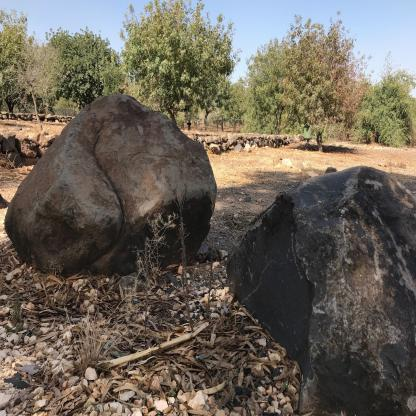Igneous_Basalt: (231, 160, 416, 416), (9, 91, 216, 262)
